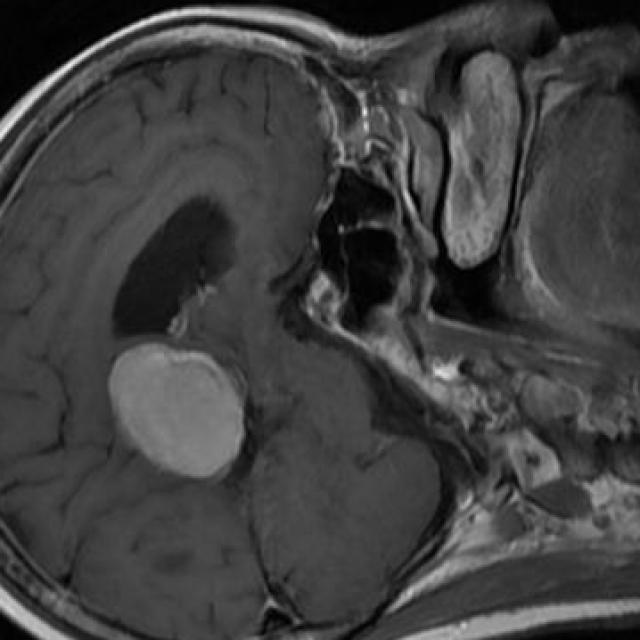meningioma: (111, 342, 242, 480)
